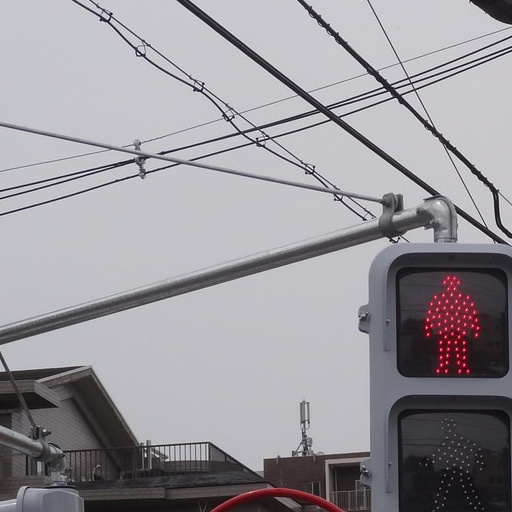Pedestrian_Signal_Red: (372, 220, 510, 503)
